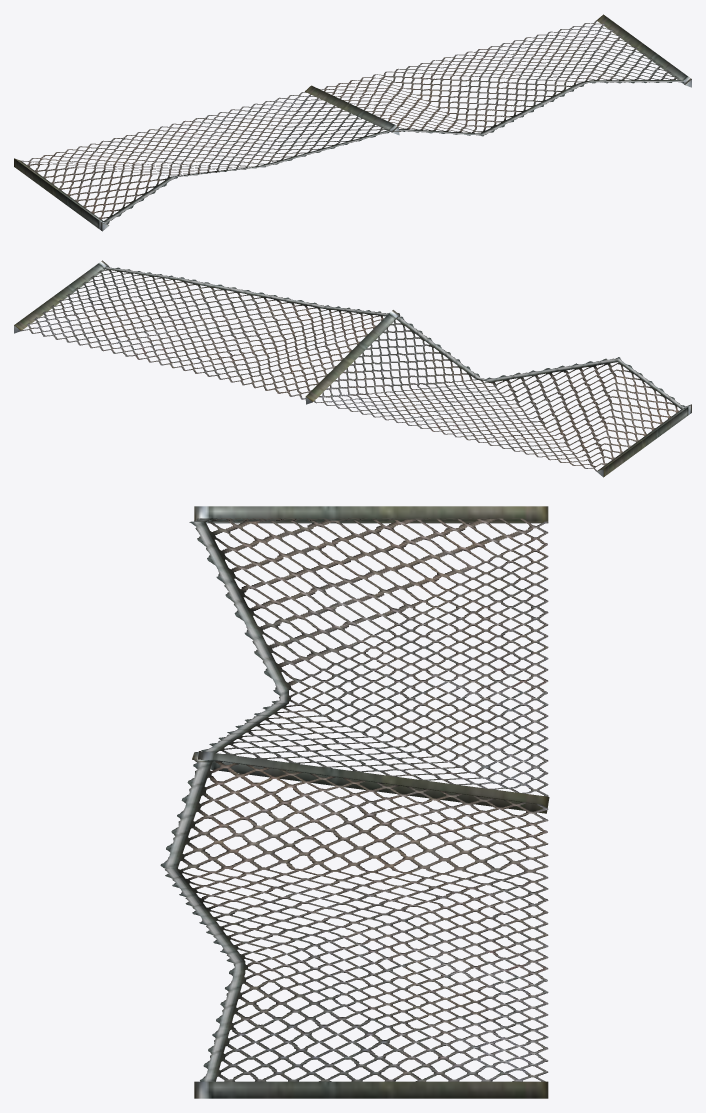
File: fence5m.fbx
The picture shows the model from 3 angles, top to bottom: view 1: azimuth 30°, elevation 25°; view 2: azimuth 150°, elevation 25°; view 3: azimuth 270°, elevation 25°; orthographic projection. The views are drawn at different scales.
Visible parts, largest first — view 1: mesh_0, mesh_1; view 2: mesh_0, mesh_1; view 3: mesh_0, mesh_1.
Part boxes in pixels (left/top/right/bottom): mesh_0: left=21, top=20, right=684, bottom=224; mesh_1: left=14, top=14, right=691, bottom=231; mesh_0: left=21, top=266, right=685, bottom=471; mesh_1: left=14, top=260, right=691, bottom=477; mesh_0: left=160, top=518, right=548, bottom=1081; mesh_1: left=194, top=506, right=549, bottom=1098.
Size of the model in its own units: 500 by 30.16 by 144.
Materials: 1 (1 with a texture image).
